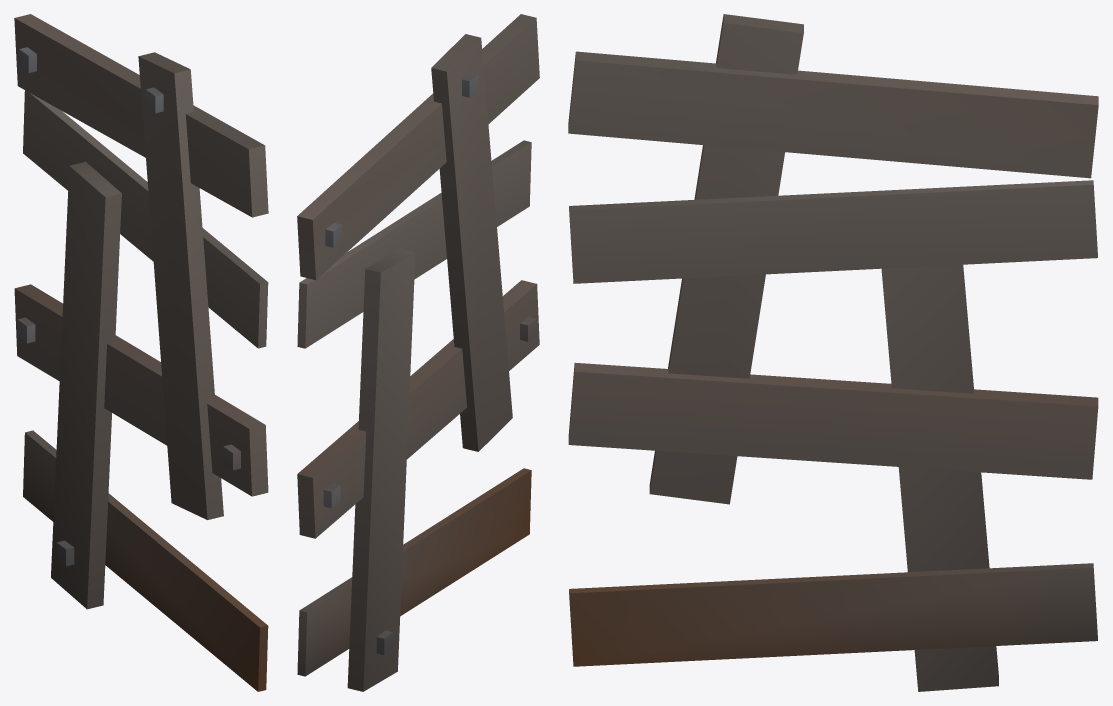
File: barricade_wreck.glb
3 renders of one model, left to right at view 1: azimuth 30°, elevation 25°; view 2: azimuth 150°, elevation 25°; view 3: azimuth 270°, elevation 25°, orthographic. The views are drawn at different scales.
Visible parts, largest first — view 1: barricade_wreck; view 2: barricade_wreck; view 3: barricade_wreck.
Boxes of the visible parts, x1,y1,x2,y2 form: barricade_wreck: (14,14,268,691); barricade_wreck: (297,14,539,691); barricade_wreck: (568,14,1098,691).
Bounding box in the file's own units: 0.1 × 1.75 × 1.26.
